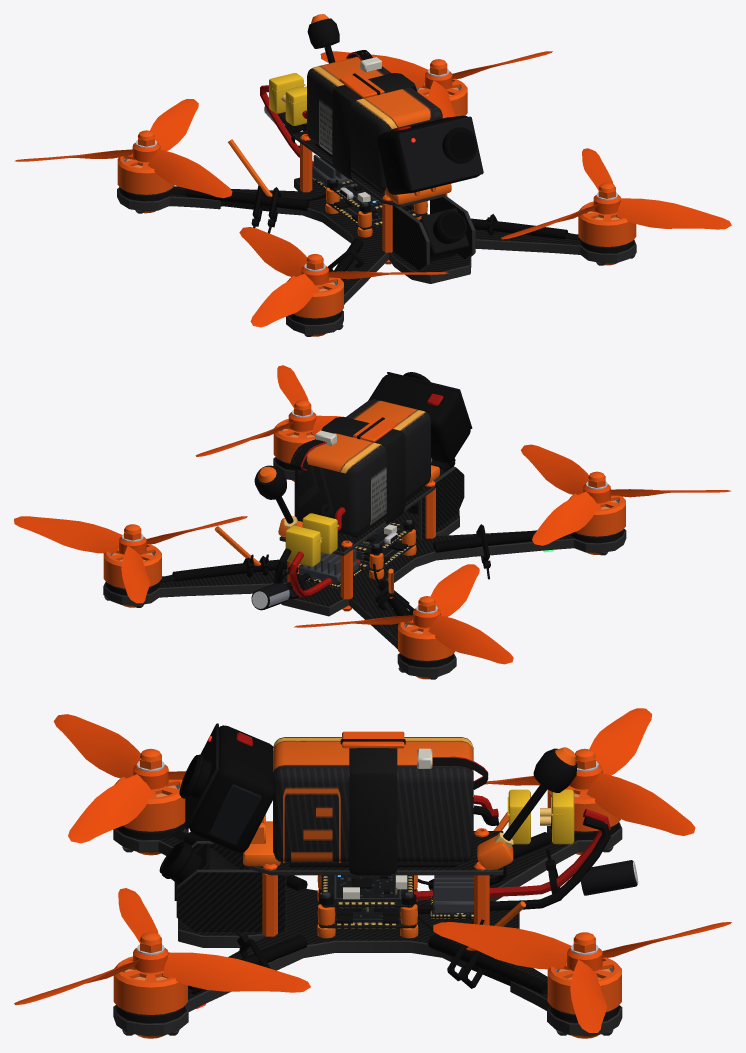
The model's file is raptor_race_a.glb.
3 renders of one model, top to bottom at view 1: azimuth 30°, elevation 25°; view 2: azimuth 150°, elevation 25°; view 3: azimuth 270°, elevation 25°, orthographic. The views are drawn at different scales.
Visible parts, largest first — view 1: body, battery, action_cam, prop_fr, prop_rr, prop_fl, prop_rl, camera_fpv, camera_lens, action_cam_lens; view 2: body, battery, prop_fr, prop_rr, prop_rl, action_cam, prop_fl; view 3: body, battery, action_cam, prop_rl, prop_fl, prop_fr, prop_rr, camera_lens, camera_fpv.
Part boxes in pixels (x1,y1,x2,y2): body: (117, 14, 636, 336); battery: (281, 50, 442, 191); action_cam: (377, 115, 483, 194); prop_fr: (239, 227, 448, 327); prop_rr: (14, 99, 232, 198); prop_fl: (501, 148, 731, 239); prop_rl: (320, 51, 552, 118); camera_fpv: (419, 208, 469, 261); camera_lens: (433, 210, 466, 243); action_cam_lens: (449, 131, 473, 158); body: (103, 417, 626, 679); battery: (290, 399, 430, 554); prop_fr: (521, 444, 731, 545); prop_rr: (294, 564, 513, 664); prop_rl: (14, 516, 247, 603); action_cam: (368, 372, 472, 462); prop_fl: (195, 365, 345, 456); body: (113, 731, 638, 1038); battery: (273, 737, 550, 862); action_cam: (179, 723, 275, 852); prop_rl: (433, 922, 731, 1032); prop_fl: (14, 888, 310, 1005); prop_fr: (53, 714, 185, 843); prop_rr: (485, 708, 695, 835); camera_lens: (159, 841, 201, 884); camera_fpv: (174, 843, 239, 900).
Size of the model in its own units: 0.2831 by 0.0871 by 0.2648.
40 materials, 4 textured.
